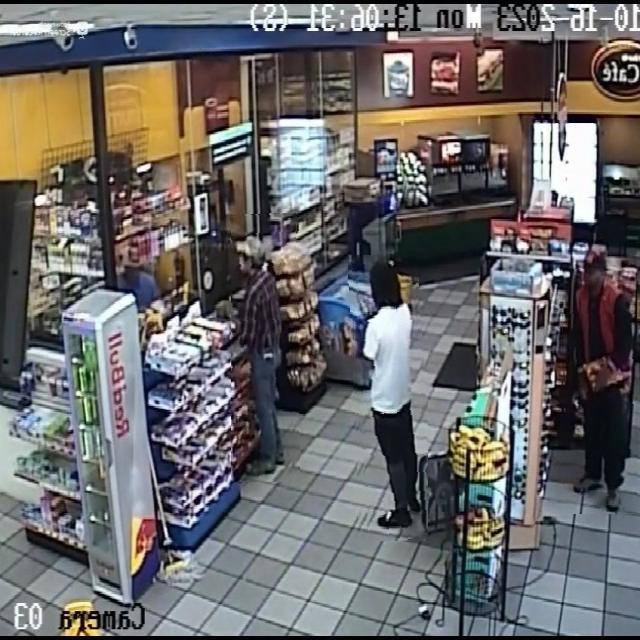Normal: (352, 252, 428, 541), (560, 247, 637, 515), (231, 214, 299, 482)
